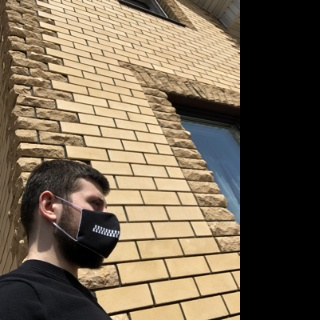with_mask: (73, 186, 120, 270)
